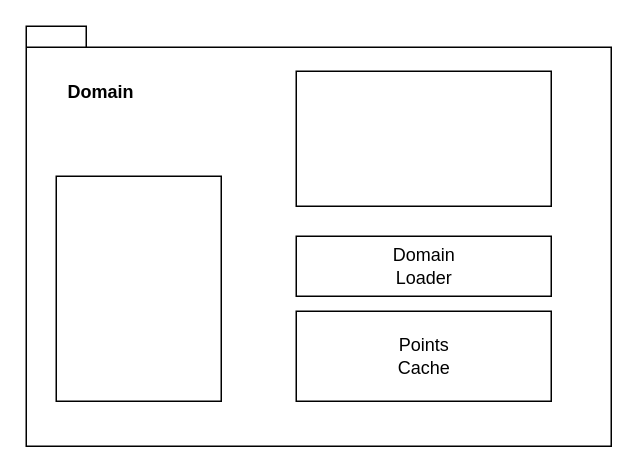
This 638x473 diagram has some shape labels left out. Here are the shapes that lost their labels. From the top down, the centre of each, then its label:
At [423,138]: "View Models".
At [138,288]: "Domain Instance".
